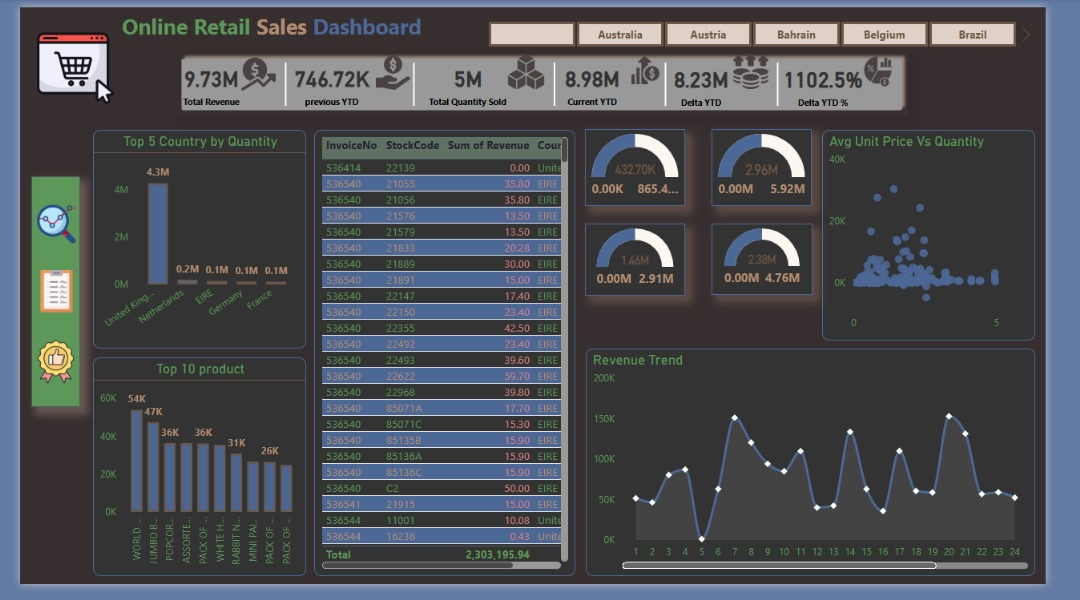

This screenshot's page, from the dashboard's own definition file:
{"tool":"powerbi","page":{"name":"Dashboard ","canvas":[1280,720],"ordinal":0},"visuals":[{"type":"shape","box":[192.9,55.7,915.7,81.4],"z":0},{"type":"card","fields":{"Values":["Online_Retail.Total Revenue"]},"box":[170,58.3,136.7,75],"z":1000},{"type":"card","fields":{"Values":["Online_Retail.previous YTD"]},"box":[306.3,57.8,165.7,75],"z":2000},{"type":"shape","box":[14.1,211,61,287.6],"z":3000},{"type":"shape","box":[305.7,68.6,51.4,54.3],"z":4000},{"type":"shape","box":[641.4,68.6,51.4,54.3],"z":5000},{"type":"shape","box":[465.7,68.6,51.4,54.3],"z":6000},{"type":"card","fields":{"Values":["Online_Retail.Total Quantity Sold"]},"box":[475.7,58.6,165.7,74.3],"z":7000},{"type":"card","fields":{"Values":["Online_Retail.Current YTD"]},"box":[631.4,57.8,165.7,75],"z":8000},{"type":"shape","box":[920,68.6,51.4,54.3],"z":9000},{"type":"shape","box":[780,68.6,51.4,54.3],"z":10000},{"type":"card","fields":{"Values":["Online_Retail.Delta YTD"]},"box":[767.4,59.4,165.7,75],"z":11000},{"type":"card","fields":{"Values":["Online_Retail.Delta YTD %"]},"box":[919,59.4,165.7,75],"z":12000},{"type":"clusteredColumnChart","title":"Top 5 Country by Quantity ","fields":{"Category":["Online_Retail.Country"],"Y":["Sum(Online_Retail.Quantity)"]},"box":[91.4,152.9,265.7,272.9],"z":13000},{"type":"tableEx","title":"Sum of Revenue by Customer","fields":{"Values":["Online_Retail.InvoiceNo","Online_Retail.StockCode","Sum(Online_Retail.Revenue)","Online_Retail.Country"]},"box":[367.1,152.9,325.7,557.1],"z":14000},{"type":"lineChart","title":"Revenue Trend","fields":{"Category":["Online_Retail.InvoiceDate.Variation.Date Hierarchy.Year","Online_Retail.InvoiceDate.Variation.Date Hierarchy.Quarter","Online_Retail.InvoiceDate.Variation.Date Hierarchy.Month","Online_Retail.InvoiceDate.Variation.Date Hierarchy.Day"],"Y":["Sum(Online_Retail.Revenue)"]},"box":[705.7,425.7,561.4,284.3],"z":15000},{"type":"columnChart","title":"Top 10 product","fields":{"Category":["Online_Retail.Description"],"Y":["Sum(Online_Retail.Quantity)"]},"box":[91.4,437.1,265.7,272.9],"z":17000},{"type":"scatterChart","title":"Avg Unit Price Vs Quantity ","fields":{"X":["Avg(Online_Retail.UnitPrice)"],"Y":["Sum(Online_Retail.Revenue)"],"Category":["Online_Retail.Quantity"]},"box":[1001.4,152.9,265.7,262.9],"z":18000},{"type":"gauge","fields":{"Y":["Online_Retail.CurrentMTD"]},"box":[705.3,152.3,124.9,96.1],"z":19000},{"type":"gauge","fields":{"Y":["Online_Retail.previous MTD"]},"box":[705.3,270.3,124.9,89.2],"z":20000},{"type":"gauge","fields":{"Y":["Online_Retail.Current QTD"]},"box":[863.1,152.3,124.9,96.1],"z":21000},{"type":"gauge","fields":{"Y":["Online_Retail.previous QTD"]},"box":[862.9,270,125.7,88.6],"z":22000},{"type":"textbox","box":[121.9,0,631.4,48.5],"z":23000},{"type":"image","box":[262.6,56.3,68.8,53.1],"z":24000},{"type":"image","box":[437.6,54.7,54.7,53.1],"z":25000},{"type":"image","box":[595.5,50,71.9,61],"z":26000},{"type":"image","box":[752.9,55.7,54.3,45.7],"z":27000},{"type":"image","box":[1045.7,52.9,50,54.3],"z":28000},{"type":"image","box":[877.1,52.9,68.6,54.3],"z":29000},{"type":"image","box":[15.6,236,59.4,68.8],"z":30000},{"type":"image","box":[14.1,314.2,62.5,81.3],"z":31000},{"type":"image","box":[10.9,395.4,67.2,93.8],"z":32000},{"type":"slicer","fields":{"Values":["Online_Retail.Country"]},"box":[558.6,11.4,708.6,38.6],"z":33000},{"type":"image","box":[15.6,19.5,106,112.8],"z":33001}]}

Visuals, with their boxes in screenshot pixels (x1, y1, x2, y2), scaled from the page's 1280x720 canvas onto the 1080x600 screenshot:
shape: (left=163, top=46, right=935, bottom=114)
card - Online_Retail.Total Revenue: (left=143, top=49, right=259, bottom=111)
card - Online_Retail.previous YTD: (left=258, top=48, right=398, bottom=111)
shape: (left=12, top=176, right=63, bottom=416)
shape: (left=258, top=57, right=301, bottom=102)
shape: (left=541, top=57, right=585, bottom=102)
shape: (left=393, top=57, right=436, bottom=102)
card - Online_Retail.Total Quantity Sold: (left=401, top=49, right=541, bottom=111)
card - Online_Retail.Current YTD: (left=533, top=48, right=673, bottom=111)
shape: (left=776, top=57, right=820, bottom=102)
shape: (left=658, top=57, right=701, bottom=102)
card - Online_Retail.Delta YTD: (left=647, top=50, right=787, bottom=112)
card - Online_Retail.Delta YTD %: (left=775, top=50, right=915, bottom=112)
"Top 5 Country by Quantity " clusteredColumnChart: (left=77, top=127, right=301, bottom=355)
"Sum of Revenue by Customer" tableEx: (left=310, top=127, right=585, bottom=592)
"Revenue Trend" lineChart: (left=595, top=355, right=1069, bottom=592)
"Top 10 product" columnChart: (left=77, top=364, right=301, bottom=592)
"Avg Unit Price Vs Quantity " scatterChart: (left=845, top=127, right=1069, bottom=346)
gauge - Online_Retail.CurrentMTD: (left=595, top=127, right=700, bottom=207)
gauge - Online_Retail.previous MTD: (left=595, top=225, right=700, bottom=300)
gauge - Online_Retail.Current QTD: (left=728, top=127, right=834, bottom=207)
gauge - Online_Retail.previous QTD: (left=728, top=225, right=834, bottom=299)
textbox: (left=103, top=0, right=636, bottom=40)
image: (left=222, top=47, right=280, bottom=91)
image: (left=369, top=46, right=415, bottom=90)
image: (left=502, top=42, right=563, bottom=92)
image: (left=635, top=46, right=681, bottom=85)
image: (left=882, top=44, right=924, bottom=89)
image: (left=740, top=44, right=798, bottom=89)
image: (left=13, top=197, right=63, bottom=254)
image: (left=12, top=262, right=65, bottom=330)
image: (left=9, top=330, right=66, bottom=408)
slicer - Online_Retail.Country: (left=471, top=10, right=1069, bottom=42)
image: (left=13, top=16, right=103, bottom=110)
